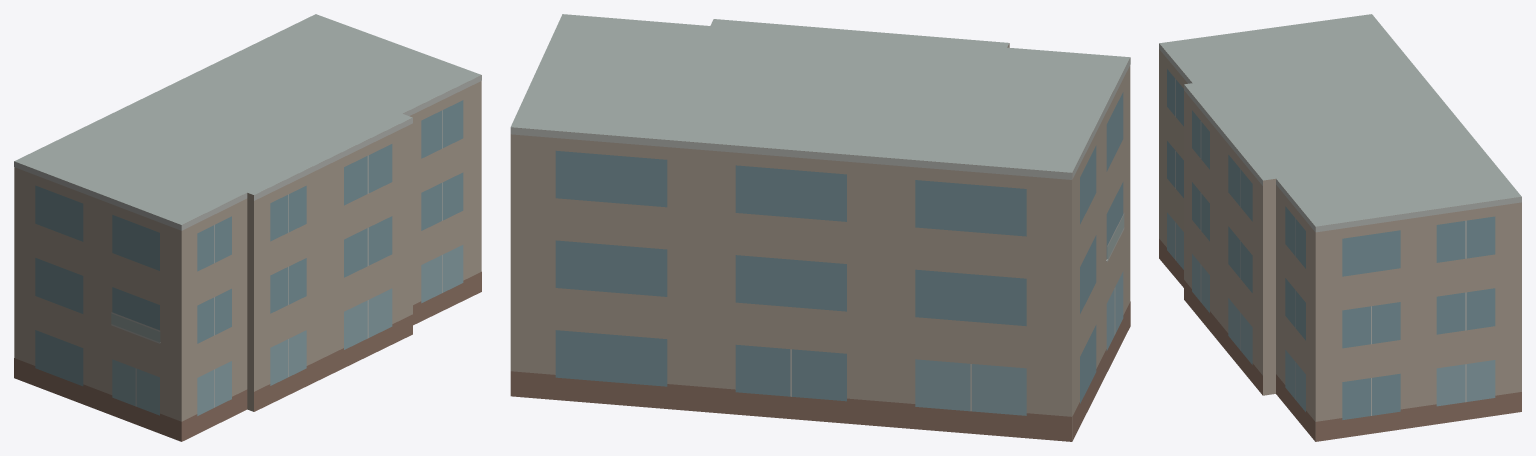
Rendered from survey-upis-32982186.glb.
3 renders of one model, left to right at view 1: azimuth 30°, elevation 25°; view 2: azimuth 150°, elevation 25°; view 3: azimuth 270°, elevation 25°, orthographic. The views are drawn at different scales.
Visible parts, largest first — view 1: survey-upis-32982186.tmp; view 2: survey-upis-32982186.tmp; view 3: survey-upis-32982186.tmp.
Part boxes in pixels (x1=…): survey-upis-32982186.tmp: x1=14, y1=14, x2=481, y2=441; survey-upis-32982186.tmp: x1=510, y1=14, x2=1130, y2=441; survey-upis-32982186.tmp: x1=1159, y1=14, x2=1521, y2=441.
Bounding box in the file's own units: 19.41 × 9.15 × 13.99.
